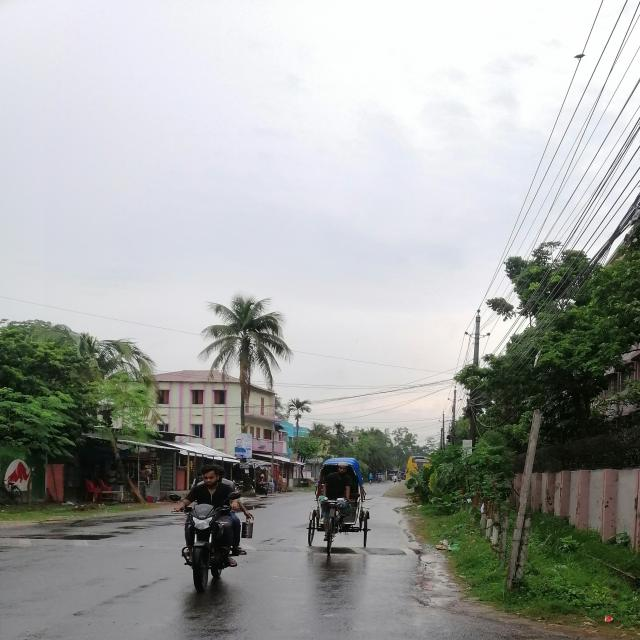Motorbike: (160, 487, 268, 588)
Rickshaw: (309, 456, 367, 564)
